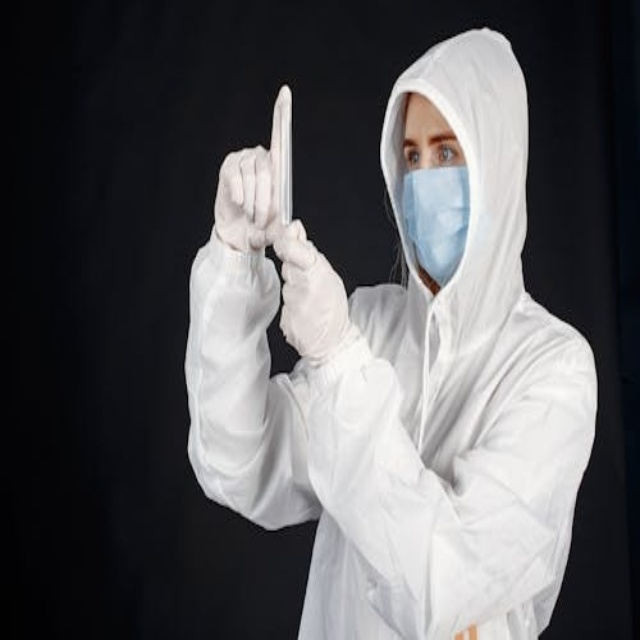Guantes: (272, 220, 353, 366), (214, 136, 283, 257)
Mascara: (400, 162, 472, 284)
Sin_gafas: (397, 131, 460, 169)
